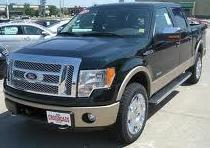front_view: (5, 48, 125, 135)
headlight: (75, 61, 118, 106)
side_glass: (150, 3, 197, 32)
